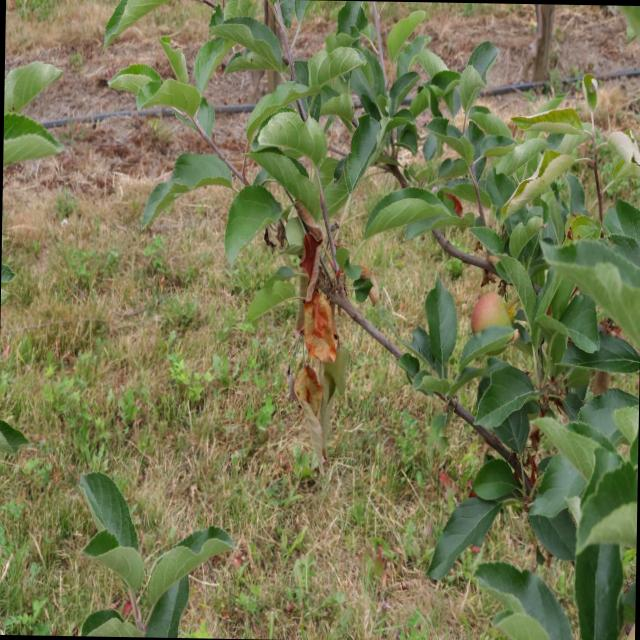-FireBlight-: (284, 202, 338, 424)
